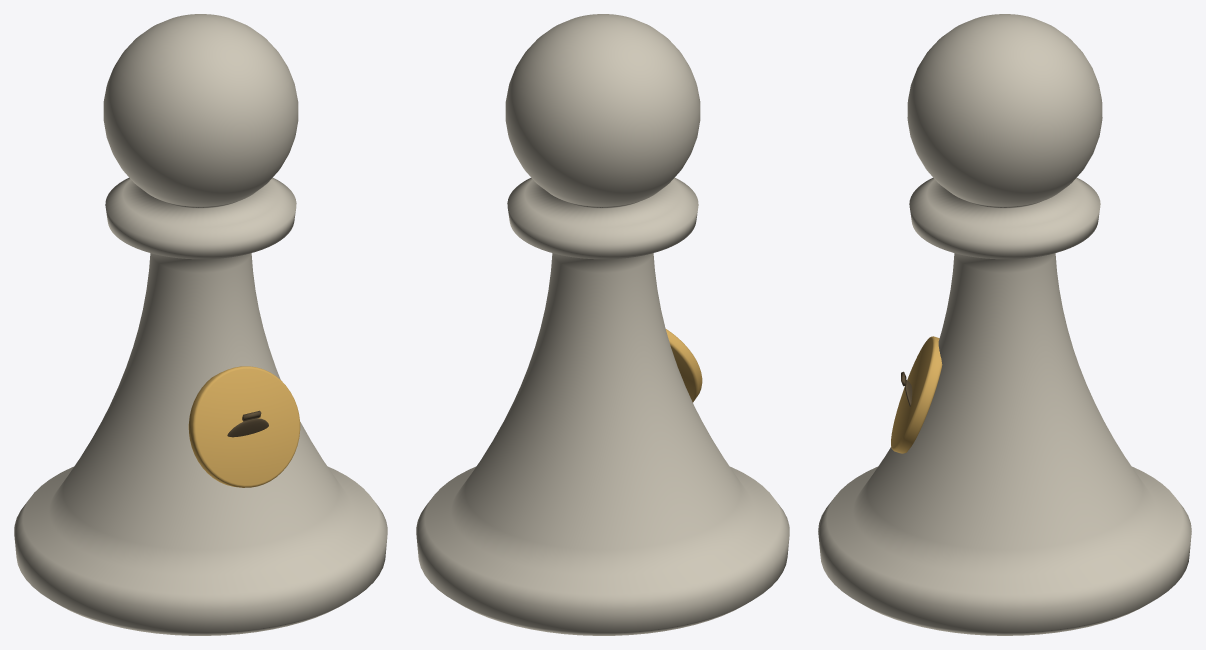
Rendered from default_merchant.glb.
3 views of the same model, side by side, from view 1: azimuth 30°, elevation 25°; view 2: azimuth 150°, elevation 25°; view 3: azimuth 270°, elevation 25° (orthographic).
Parts seen in each view (by area): view 1: WoodBody, BrassTrim, FixedDetails; view 2: WoodBody, BrassTrim; view 3: WoodBody, BrassTrim.
Part boxes in pixels (x1,y1,x2,y2): WoodBody: [14, 14, 387, 635]; BrassTrim: [188, 366, 300, 487]; FixedDetails: [227, 410, 268, 437]; WoodBody: [416, 14, 789, 635]; BrassTrim: [665, 329, 702, 402]; WoodBody: [818, 14, 1191, 635]; BrassTrim: [891, 336, 942, 453].
Size of the model in its own units: 0.172 by 0.274 by 0.172.
